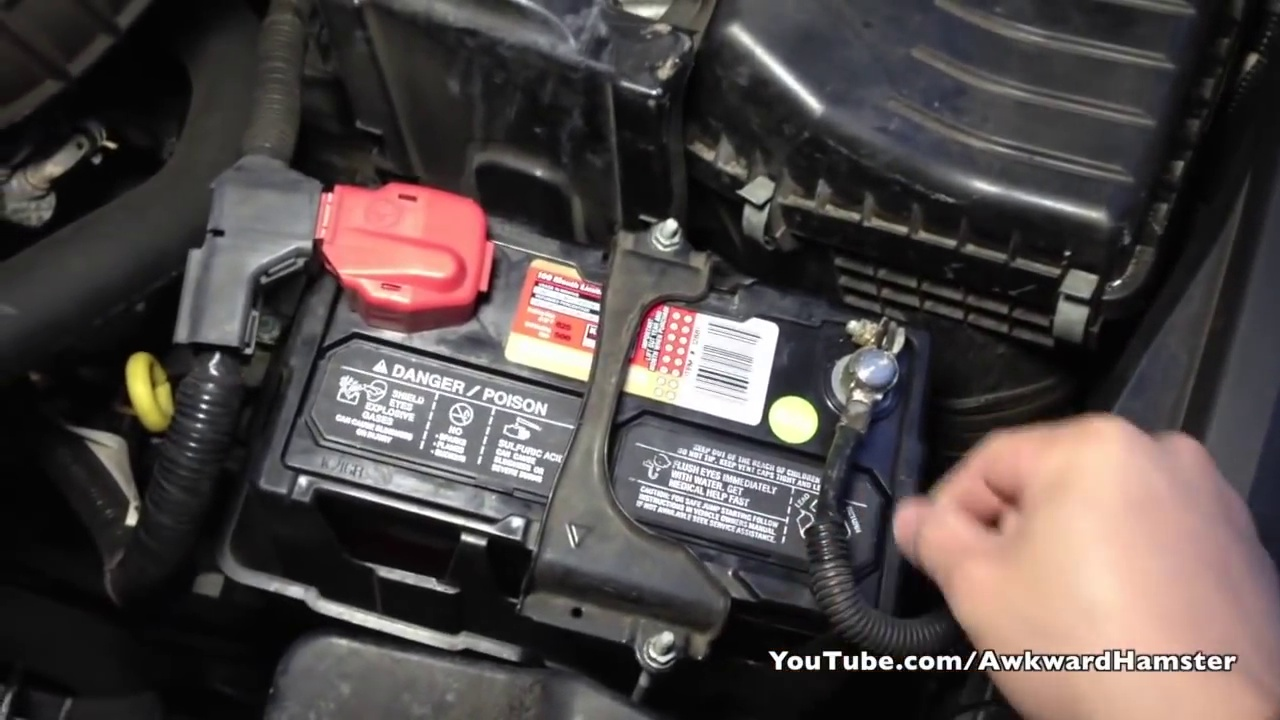battery: (246, 171, 909, 655)
neg_connected: (796, 310, 921, 463)
pos_connected: (305, 160, 515, 333)
